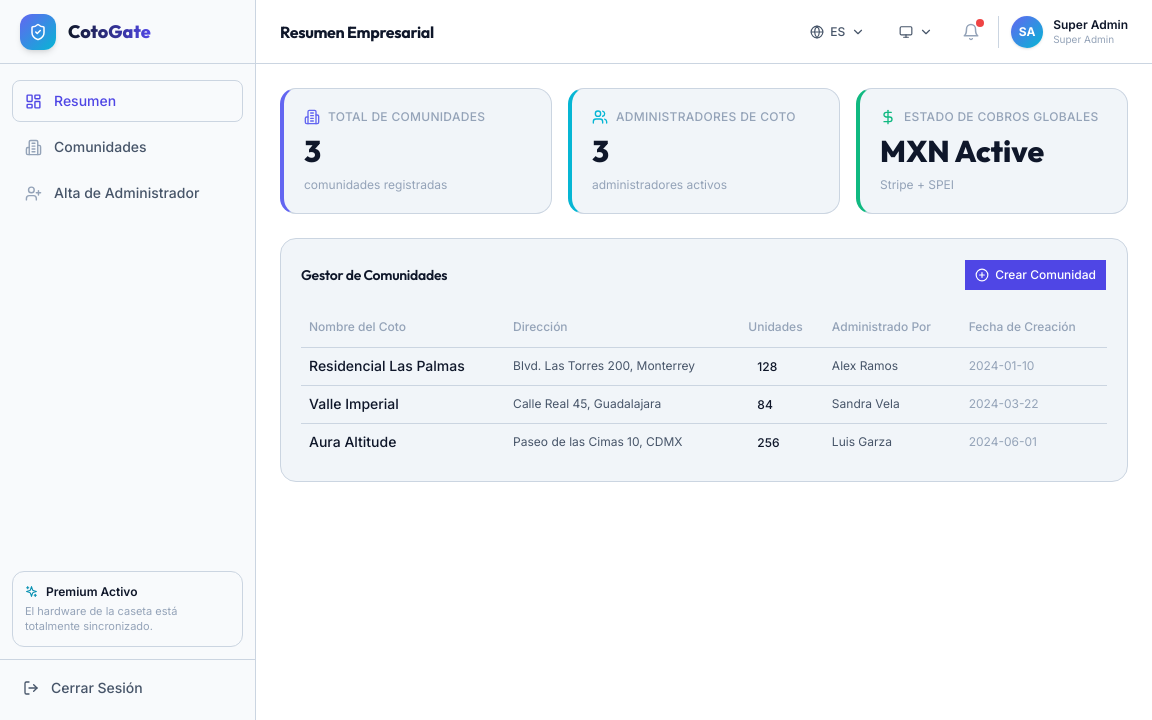
SuperAdminDashboard › opens and submits the Create Community modal
Check: the heading "Resumen Empresarial" is shown, box [280,20,434,44]
Click the button with id "nav-communities": (128, 147) [12,126,243,168]
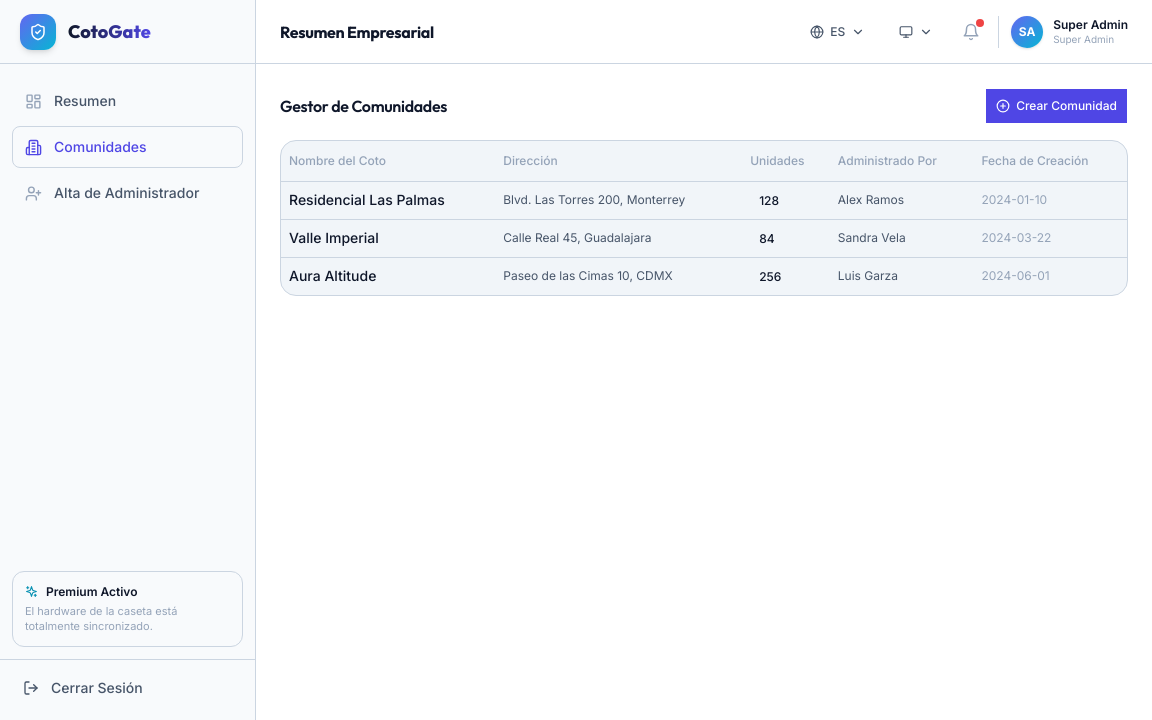
Check: the text "Residencial Las Palmas" is shown, box [281,181,495,219]
Click the button with id "btn-create-community": (1057, 106) [985,88,1128,124]
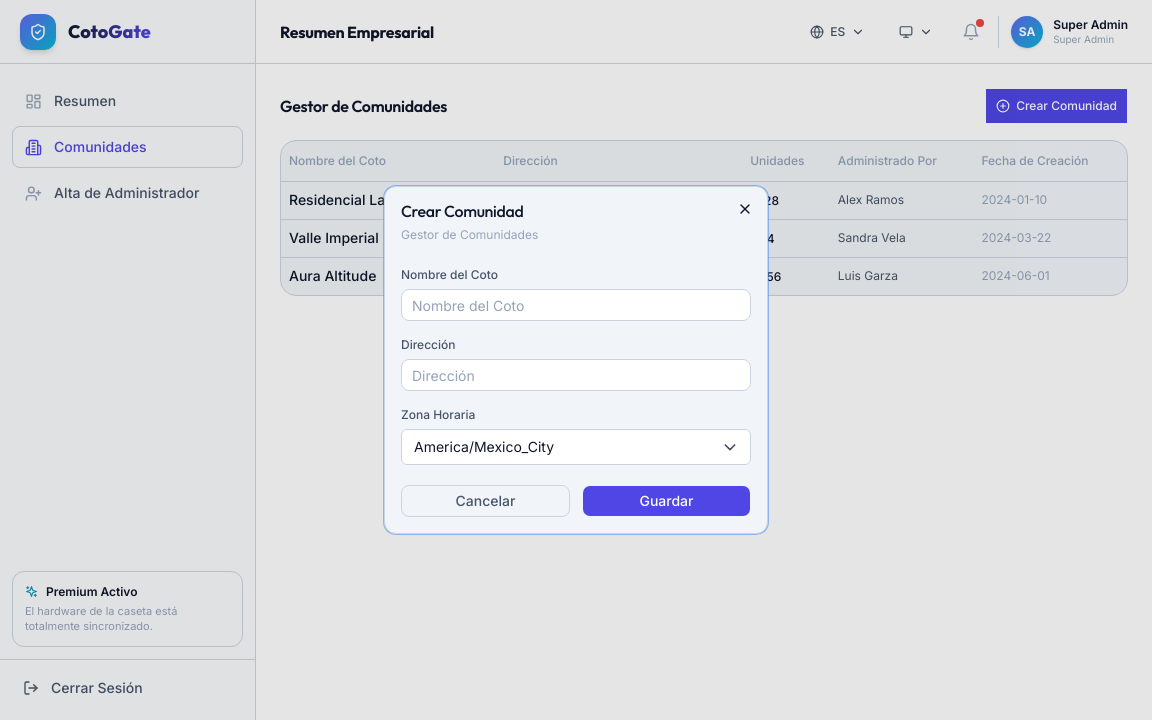
In the field labelled "Nombre del Coto": (576, 305) [401,289,751,321], type "Nuevo Coto Test"
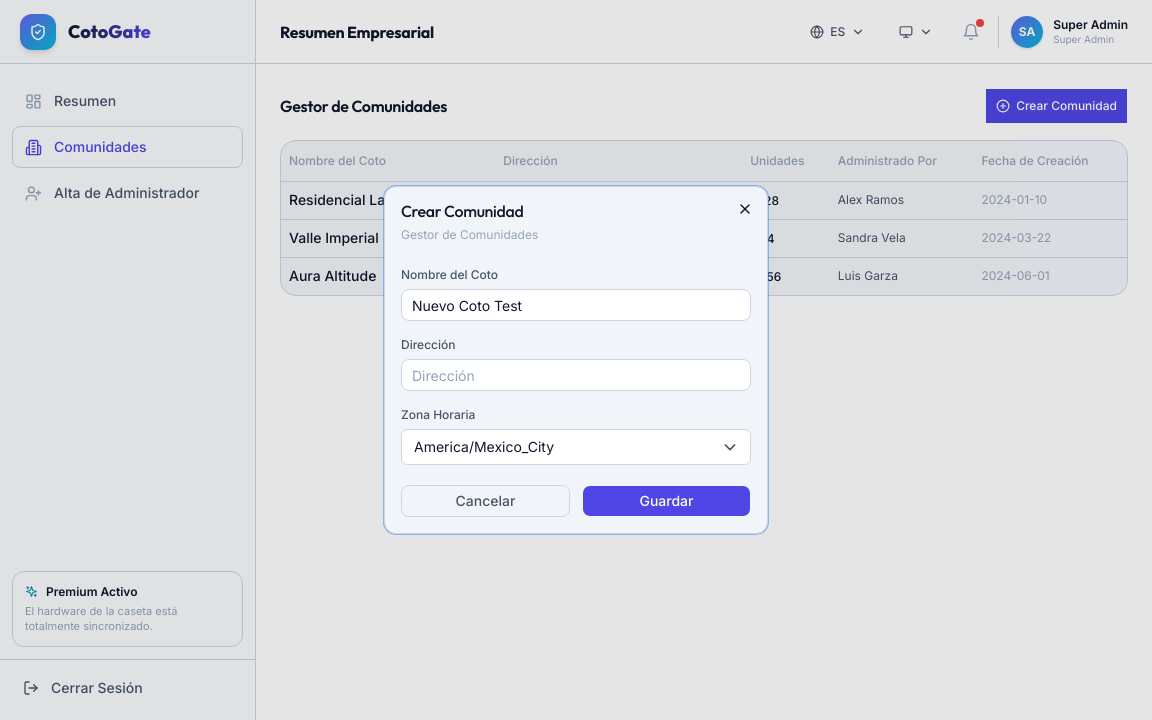
In the field with id "community-address": (576, 375) [401,359,751,391], type "Calle Falsa 123"
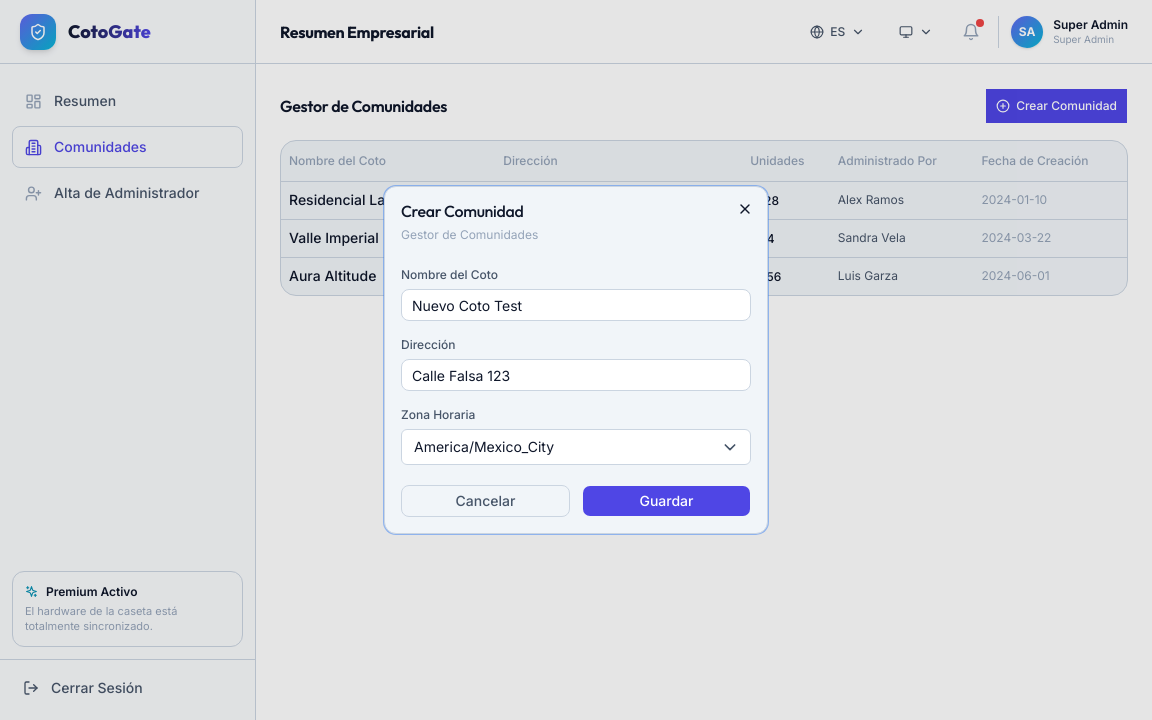
Click the button "Guardar": (666, 501) [582,485,751,517]
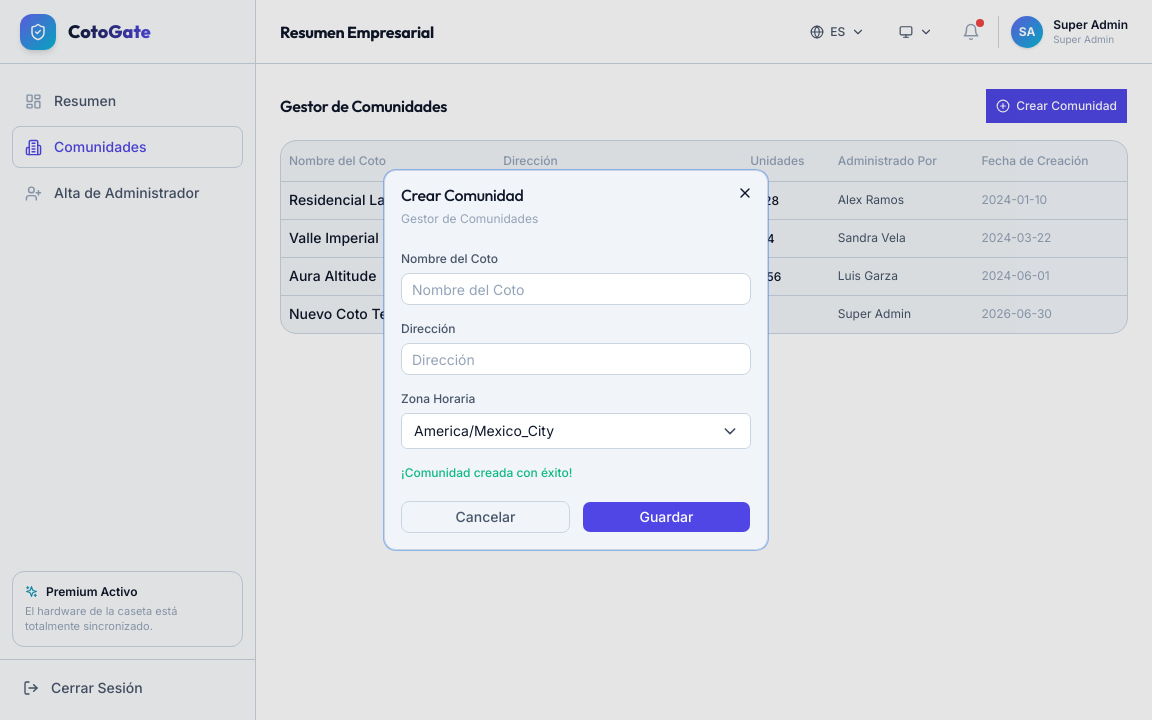
Check: the text "¡Comunidad creada con éxito!" is shown, box [401,465,572,480]
